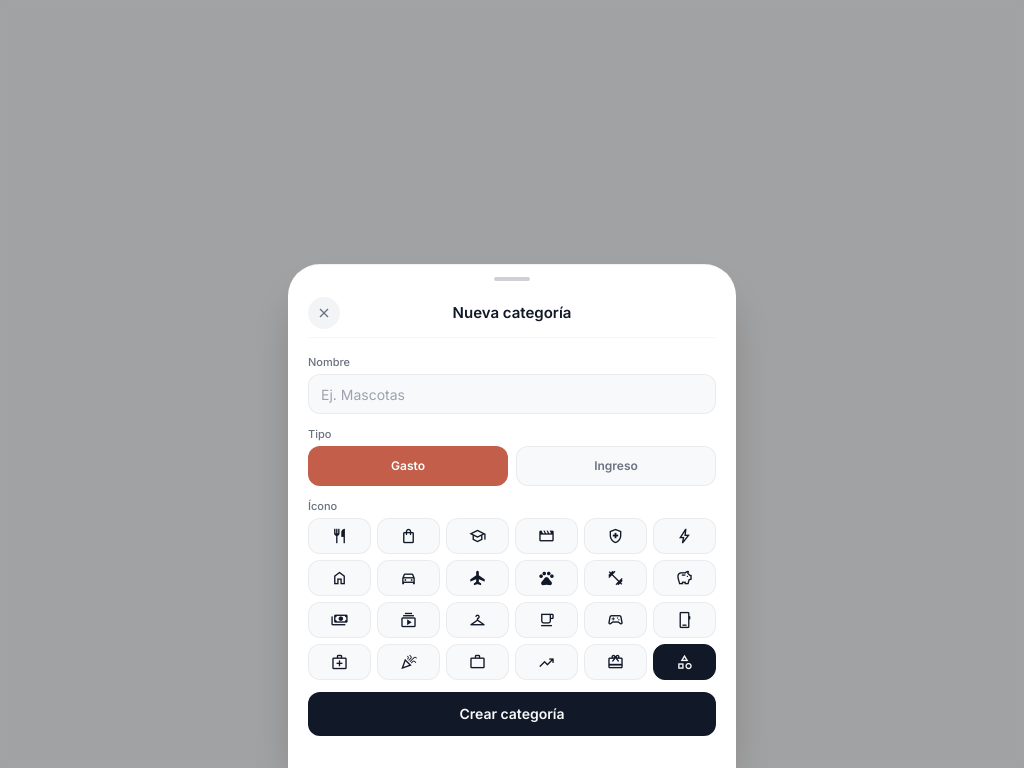
Test case: CategoryModal › valida que el nombre no esté vacío
The width and height of the screenshot is (1024, 768).
What coordinates should you click on to do the following:
click the button "Crear categoría"
I would click on:
 (512, 714)
Its box is [308, 692, 716, 736].
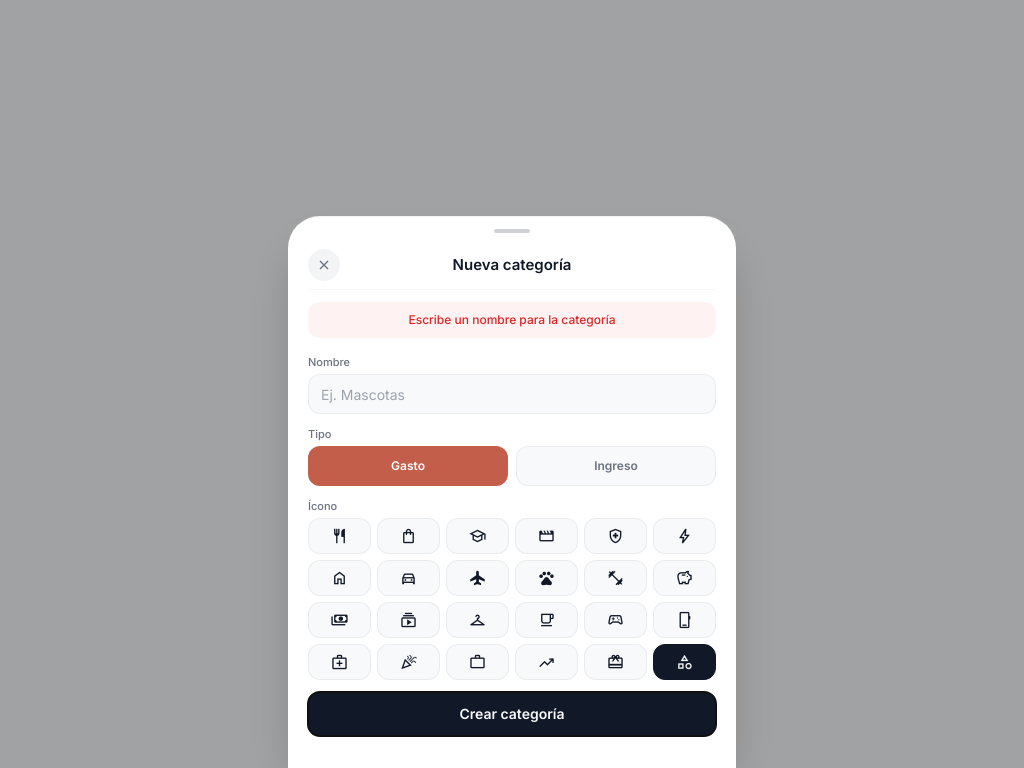
expect the text "Escribe un nombre para la categoría" is shown: met, box [308, 302, 716, 338]
